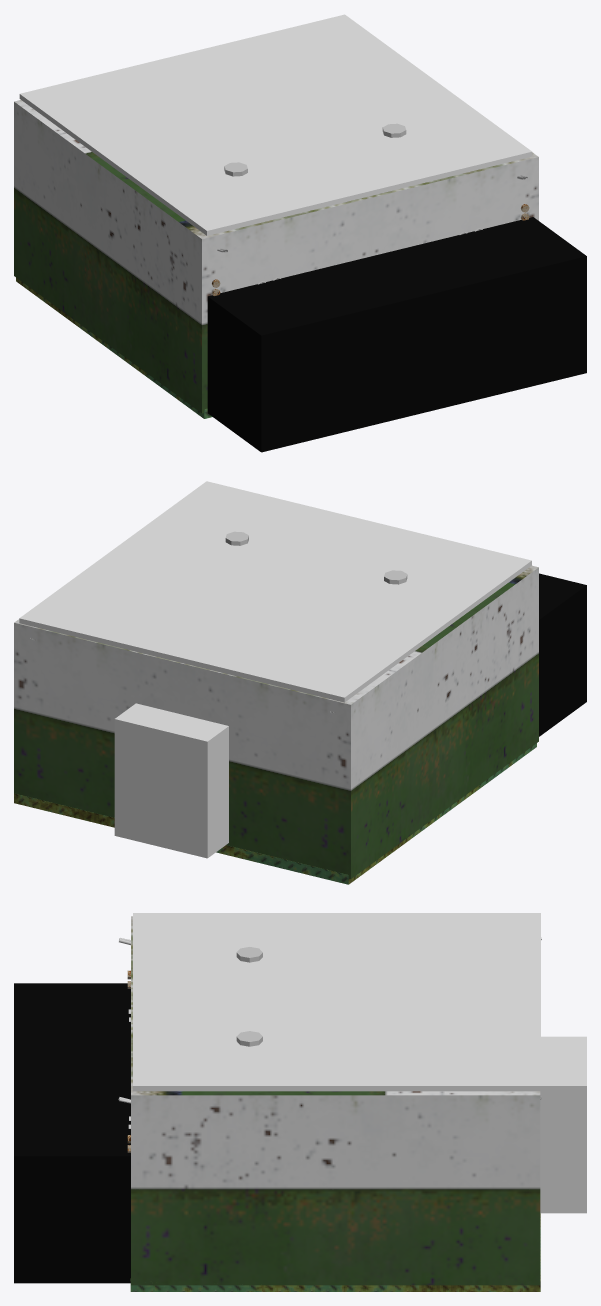
The model's file is engineroom4.fbx.
The picture shows the model from 3 angles, top to bottom: view 1: azimuth 30°, elevation 25°; view 2: azimuth 150°, elevation 25°; view 3: azimuth 270°, elevation 25°; orthographic projection. The views are drawn at different scales.
Visible parts, largest first — view 1: Cube.004, Cube.003, Cube, Cube.005; view 2: Cube, Cube.004, bool, Cube.003, Cube.005; view 3: Cube, Cube.004, Cube.003, bool, Cube.005.
Part boxes in pixels (x1,y1,x2,y2): Cube.004: (19,14,532,235); Cube.003: (207,217,586,452); Cube: (14,100,538,413); Cube.005: (16,277,212,418); Cube: (14,565,538,878); Cube.004: (19,481,531,702); bool: (114,703,228,858); Cube.003: (539,573,586,736); Cube.005: (14,743,536,884); Cube: (131,916,540,1285); Cube.004: (133,913,540,1091); Cube.003: (14,983,130,1283); bool: (540,1036,586,1213); Cube.005: (130,1213,540,1291).
Bounding box in the file's own units: 724 × 392 × 980.
